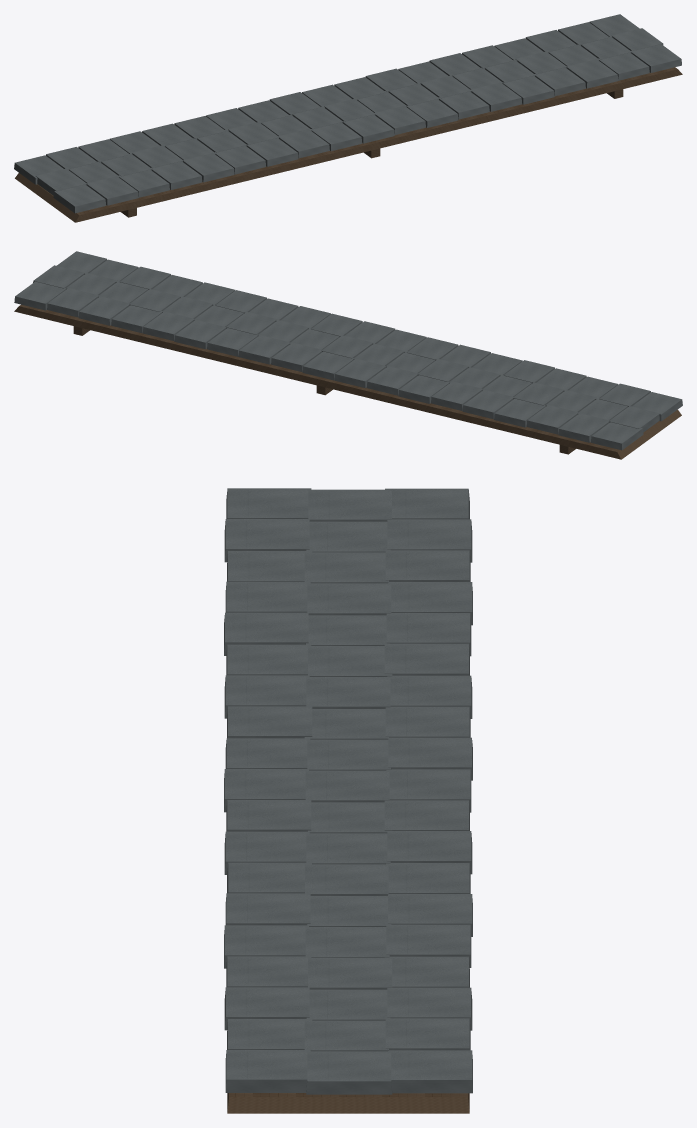
Rendered from village__05__expanded_warehouse__roof_left.glb.
3 views of the same model, one above another, from view 1: azimuth 30°, elevation 25°; view 2: azimuth 150°, elevation 25°; view 3: azimuth 270°, elevation 25° (orthographic). The views are drawn at different scales.
Parts seen in each view (by area): view 1: RoofLeft_Course_01; view 2: RoofLeft_Course_01; view 3: RoofLeft_Course_01.
Boxes of the visible parts, x1,y1,x2,y2 form: RoofLeft_Course_01: [14, 14, 682, 222]; RoofLeft_Course_01: [14, 251, 682, 459]; RoofLeft_Course_01: [224, 488, 472, 1113].
Bounding box in the file's own units: 6.96 × 0.2995 × 1.23.
Materials: 2 (2 with a texture image).
